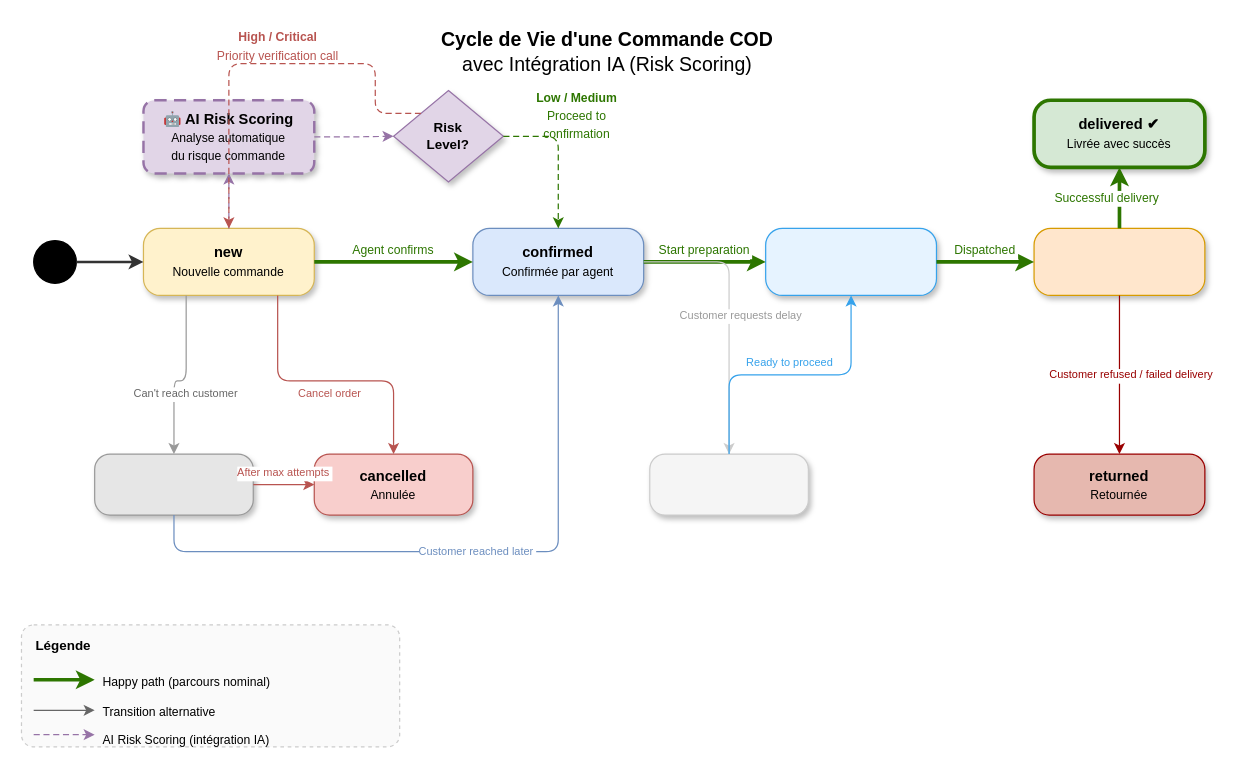
Some shapes in this 1237 by 777 pixel diagram are drawn without their labels. Here are the shapes that lost their labels. From the top down, the centre of each, then its label:
At point 852,263: "processing En préparation".
At point 1120,263: "shipped Expédiée".
At point 175,486: "no_answer Client injoignable".
At point 730,486: "postponed Reportée".
